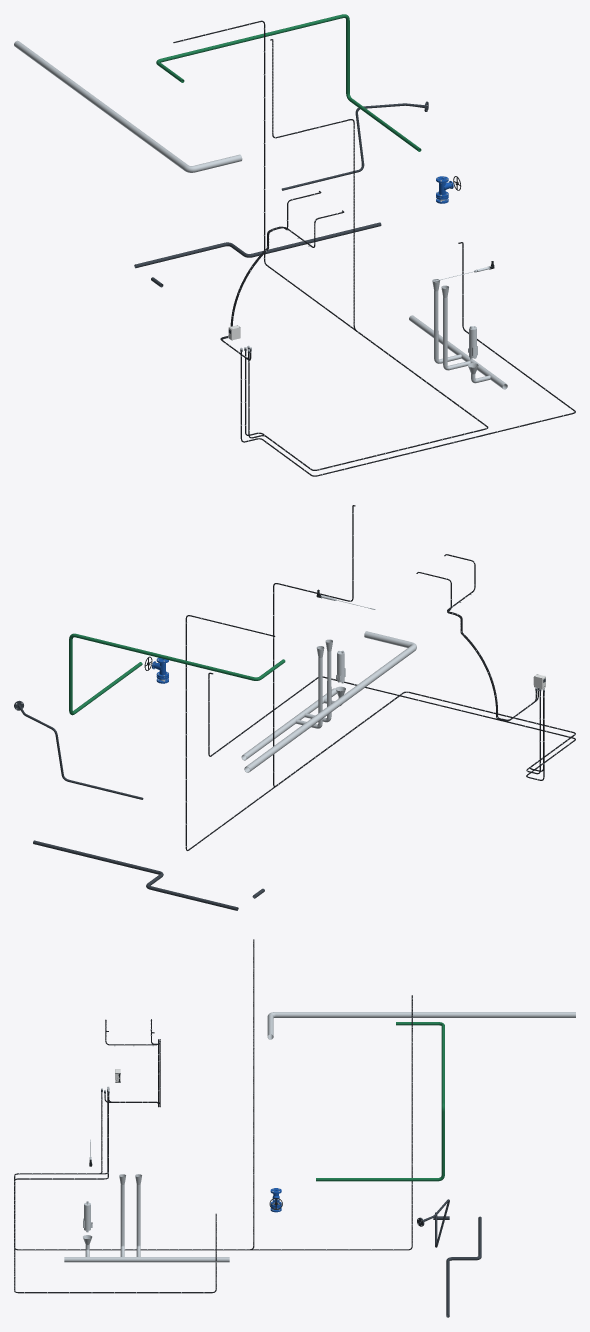
3 renders of one model, top to bottom at view 1: azimuth 30°, elevation 25°; view 2: azimuth 150°, elevation 25°; view 3: azimuth 270°, elevation 25°, orthographic. The views are drawn at different scales.
Parts seen in each view (by area): view 1: safety_vent_1 / steel, local_open_drains / steel, to_direct / green, gpz_drive_cable / black, mod_eco_drive_cable / black, wiring_pump_1 / black, bottom_discharge / dark, tds_without_fv / dark; view 2: safety_vent_1 / steel, local_open_drains / steel, to_direct / green, mod_eco_drive_cable / black, gpz_drive_cable / black, wiring_pump_1 / black, bottom_discharge / dark, tds_without_fv / dark; view 3: safety_vent_1 / steel, local_open_drains / steel, mod_eco_drive_cable / black, to_direct / green, gpz_drive_cable / black, wiring_pump_1 / black, bottom_discharge / dark.
Boxes of the visible parts, bbox=[...] form: safety_vent_1 / steel: bbox=[14, 40, 242, 172]; local_open_drains / steel: bbox=[409, 279, 507, 389]; to_direct / green: bbox=[156, 14, 421, 151]; gpz_drive_cable / black: bbox=[248, 39, 488, 470]; mod_eco_drive_cable / black: bbox=[173, 20, 487, 470]; wiring_pump_1 / black: bbox=[240, 242, 575, 476]; bottom_discharge / dark: bbox=[134, 222, 381, 268]; tds_without_fv / dark: bbox=[281, 101, 428, 190]; safety_vent_1 / steel: bbox=[244, 631, 416, 772]; local_open_drains / steel: bbox=[241, 639, 345, 760]; to_direct / green: bbox=[69, 633, 274, 715]; mod_eco_drive_cable / black: bbox=[185, 615, 575, 850]; gpz_drive_cable / black: bbox=[273, 505, 575, 786]; wiring_pump_1 / black: bbox=[208, 672, 575, 780]; bottom_discharge / dark: bbox=[33, 840, 238, 910]; tds_without_fv / dark: bbox=[14, 700, 143, 799]; safety_vent_1 / steel: bbox=[267, 1012, 575, 1039]; local_open_drains / steel: bbox=[64, 1174, 229, 1262]; mod_eco_drive_cable / black: bbox=[14, 995, 412, 1250]; to_direct / green: bbox=[316, 1022, 444, 1181]; gpz_drive_cable / black: bbox=[14, 939, 254, 1250]; wiring_pump_1 / black: bbox=[14, 1101, 216, 1293]; bottom_discharge / dark: bbox=[446, 1216, 481, 1317].
Bounding box in the file's own units: 4.75 × 3.91 × 7.03.
